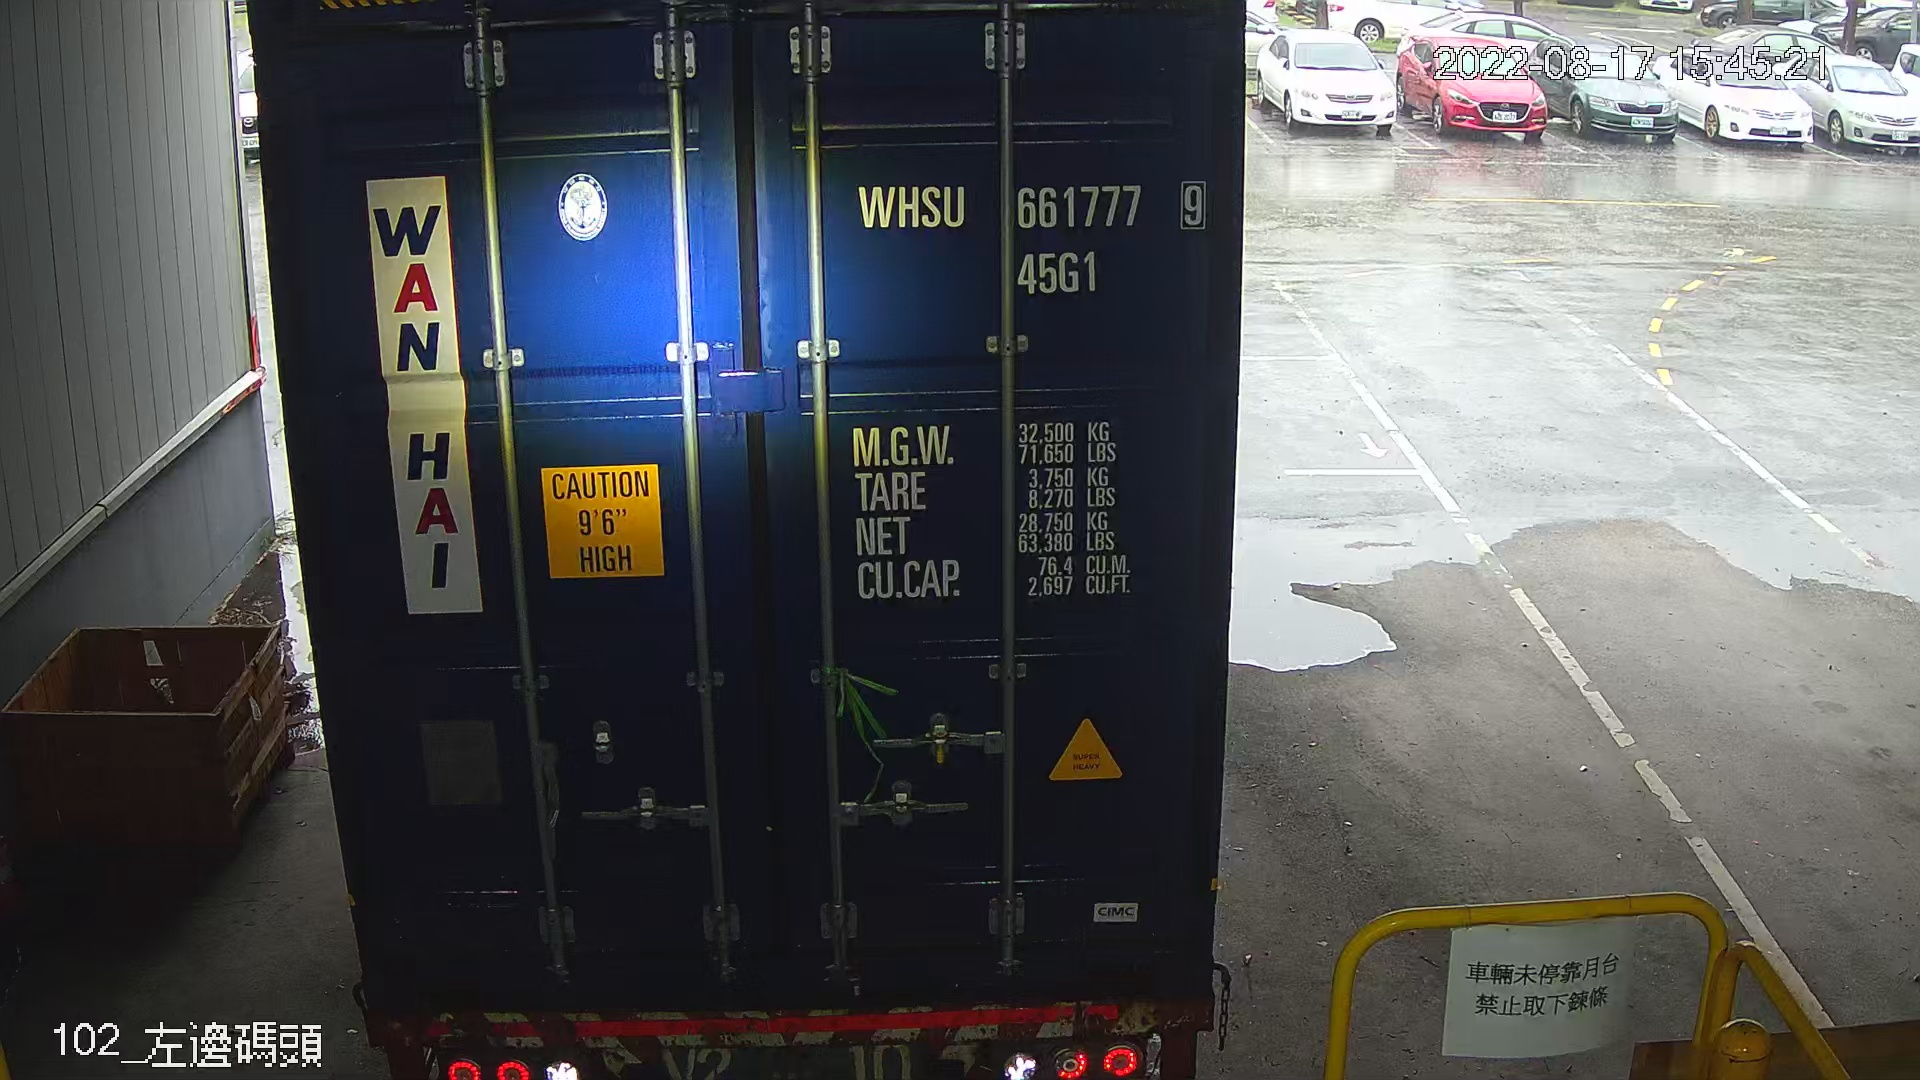container: (844, 166, 1218, 310)
